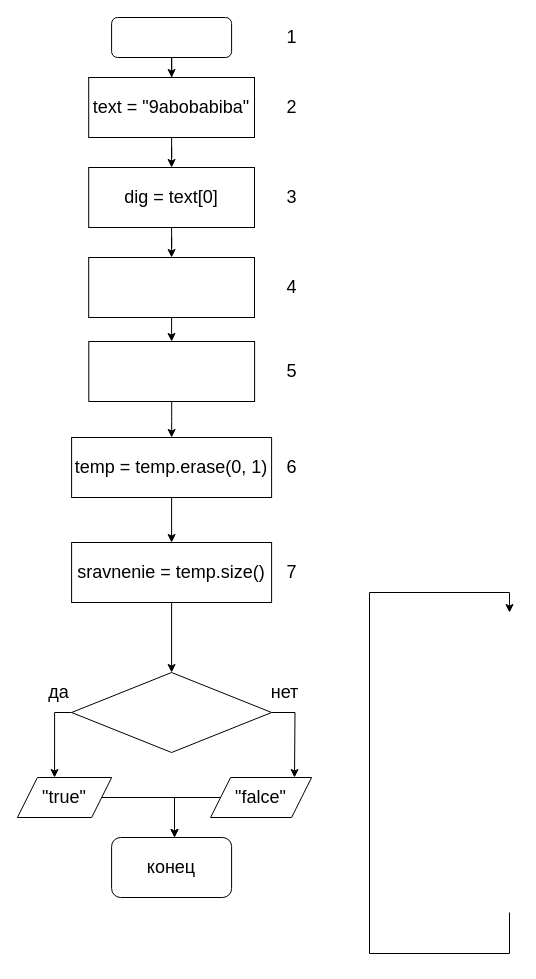
Some shapes in this 536 by 979 pixel diagram are drawn without their labels. Here are the shapes that lost their labels. From the top down, the box of each, then its label:
(111, 16, 232, 58): Начало
(88, 256, 254, 318): dig_int = stoi(dig)
(88, 340, 255, 402): temp = text
(71, 672, 272, 752): sravnenie == dig_int
